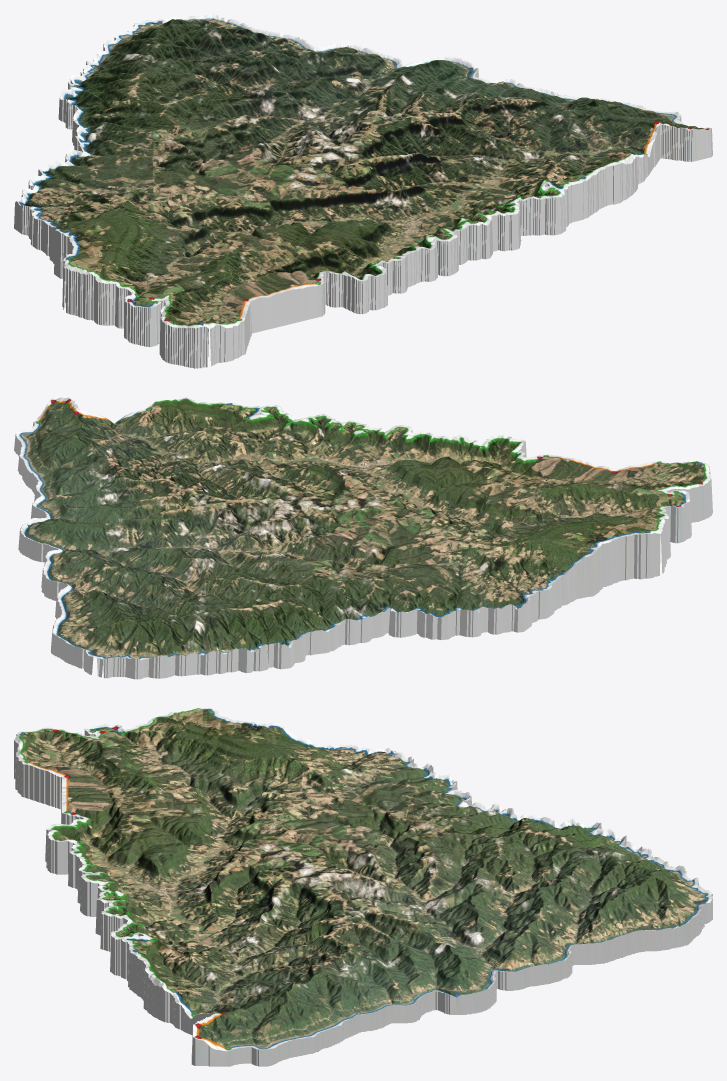
The picture shows the model from 3 angles, top to bottom: view 1: azimuth 30°, elevation 25°; view 2: azimuth 150°, elevation 25°; view 3: azimuth 270°, elevation 25°; orthographic projection. The views are drawn at different scales.
Bounding box in the file's own units: 1 × 0.0712 × 0.9398.
1 material, 1 textured.
